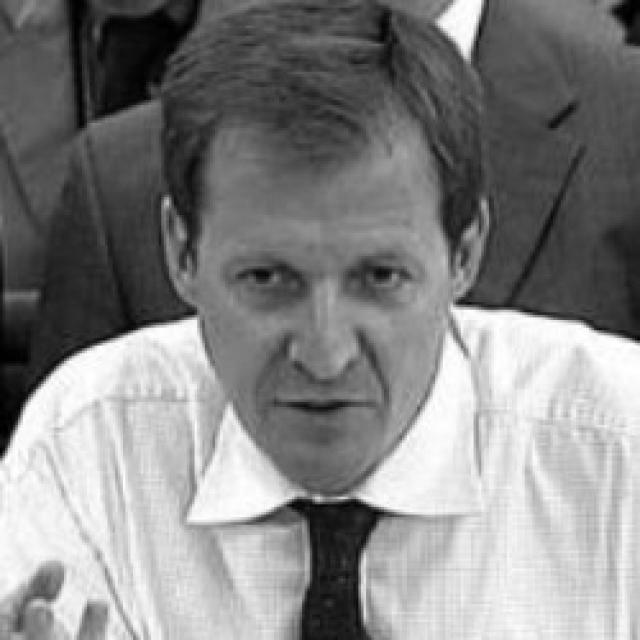real: (193, 116, 451, 495), (212, 250, 426, 319)
